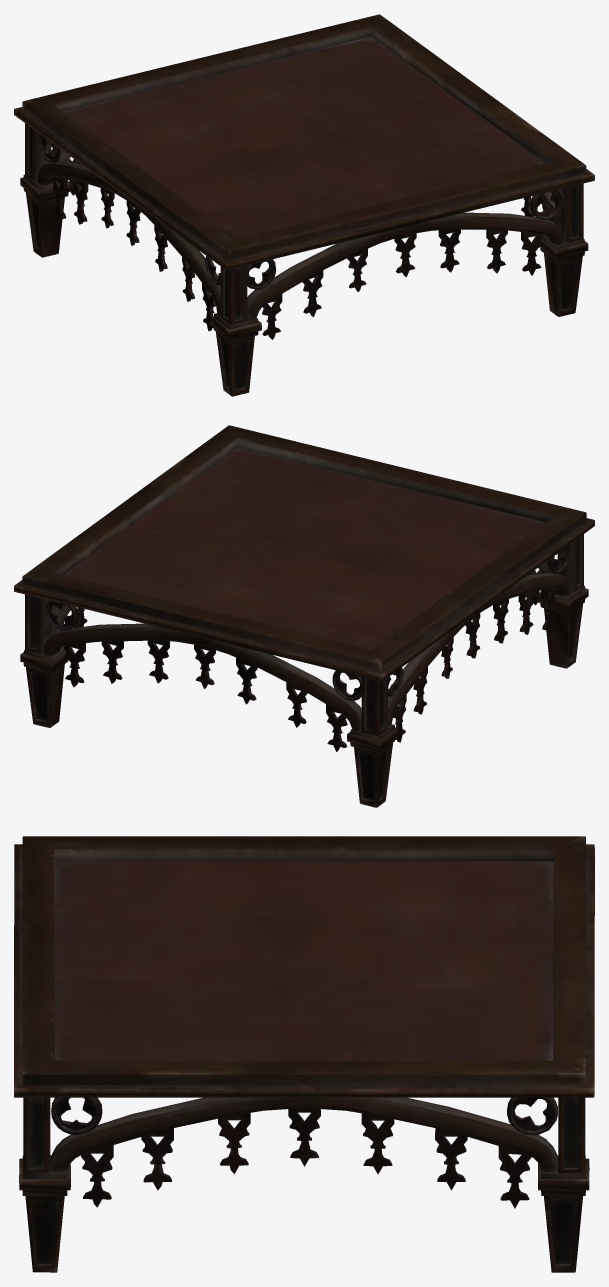
Rendered from gothic_coffee_table.glb.
The picture shows the model from 3 angles, top to bottom: view 1: azimuth 30°, elevation 25°; view 2: azimuth 150°, elevation 25°; view 3: azimuth 270°, elevation 25°; orthographic projection. The views are drawn at different scales.
Parts seen in each view (by area): view 1: gothic_coffee_table; view 2: gothic_coffee_table; view 3: gothic_coffee_table.
Boxes of the visible parts, x1=… form: gothic_coffee_table: x1=14, y1=14, x2=594, y2=396; gothic_coffee_table: x1=14, y1=425, x2=594, y2=807; gothic_coffee_table: x1=14, y1=836, x2=594, y2=1272.
Bounding box in the file's own units: 1.44 × 0.5581 × 1.44.
1 material, 1 textured.
